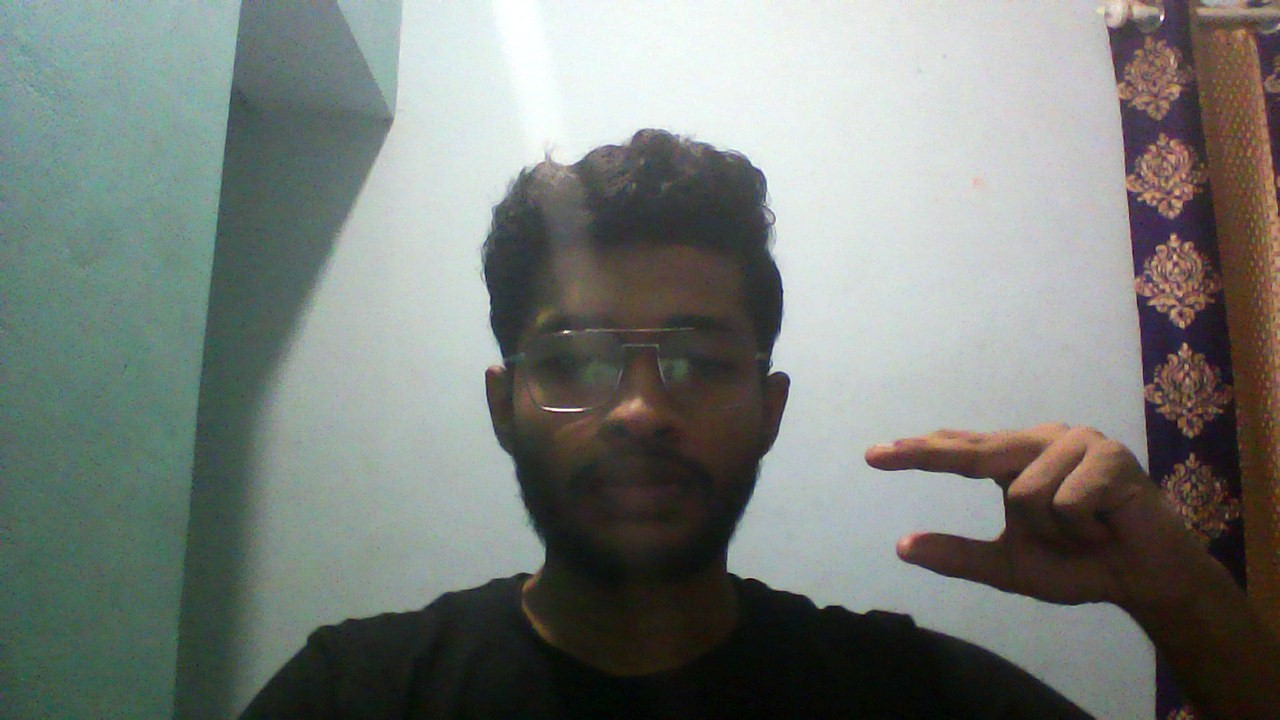No: (858, 417, 1205, 611)
